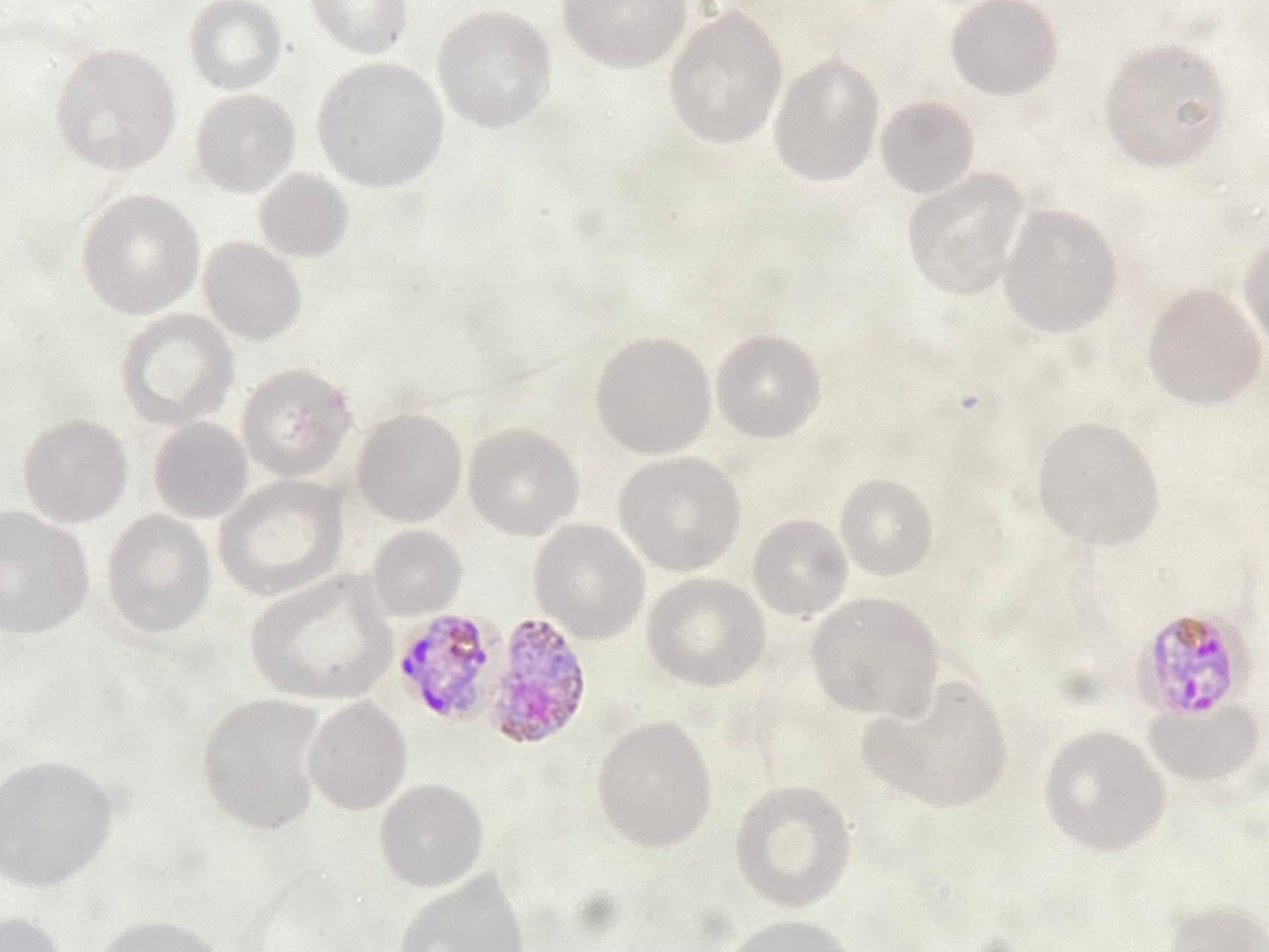Infected: (482, 616, 584, 742), (397, 610, 508, 724), (645, 579, 762, 685), (1157, 616, 1231, 709)
Uninfected: (863, 681, 1005, 808), (248, 573, 389, 698), (811, 599, 939, 717), (319, 66, 445, 185), (1036, 422, 1158, 544), (81, 193, 201, 314), (204, 701, 317, 828), (220, 476, 344, 591), (1104, 48, 1225, 164), (669, 14, 781, 138), (907, 174, 1023, 293), (596, 725, 711, 845), (58, 53, 175, 170), (1044, 732, 1162, 847), (617, 458, 738, 570), (594, 336, 711, 451), (1001, 213, 1112, 332), (735, 788, 849, 903), (1146, 289, 1260, 403), (0, 761, 106, 883), (118, 309, 233, 421), (437, 15, 551, 126), (107, 517, 212, 634), (532, 525, 642, 636), (239, 369, 352, 475), (773, 61, 876, 176), (467, 428, 579, 533), (357, 416, 467, 522), (311, 702, 407, 814), (0, 511, 87, 634), (23, 420, 126, 523), (378, 783, 482, 885), (715, 334, 820, 435), (202, 239, 302, 339), (196, 94, 296, 192), (151, 423, 249, 521), (751, 517, 850, 614), (839, 480, 935, 576), (401, 873, 519, 951), (952, 0, 1052, 92), (880, 97, 974, 191), (1146, 704, 1256, 784), (371, 529, 463, 618), (191, 1, 282, 85), (258, 175, 348, 259), (565, 1, 681, 63)
